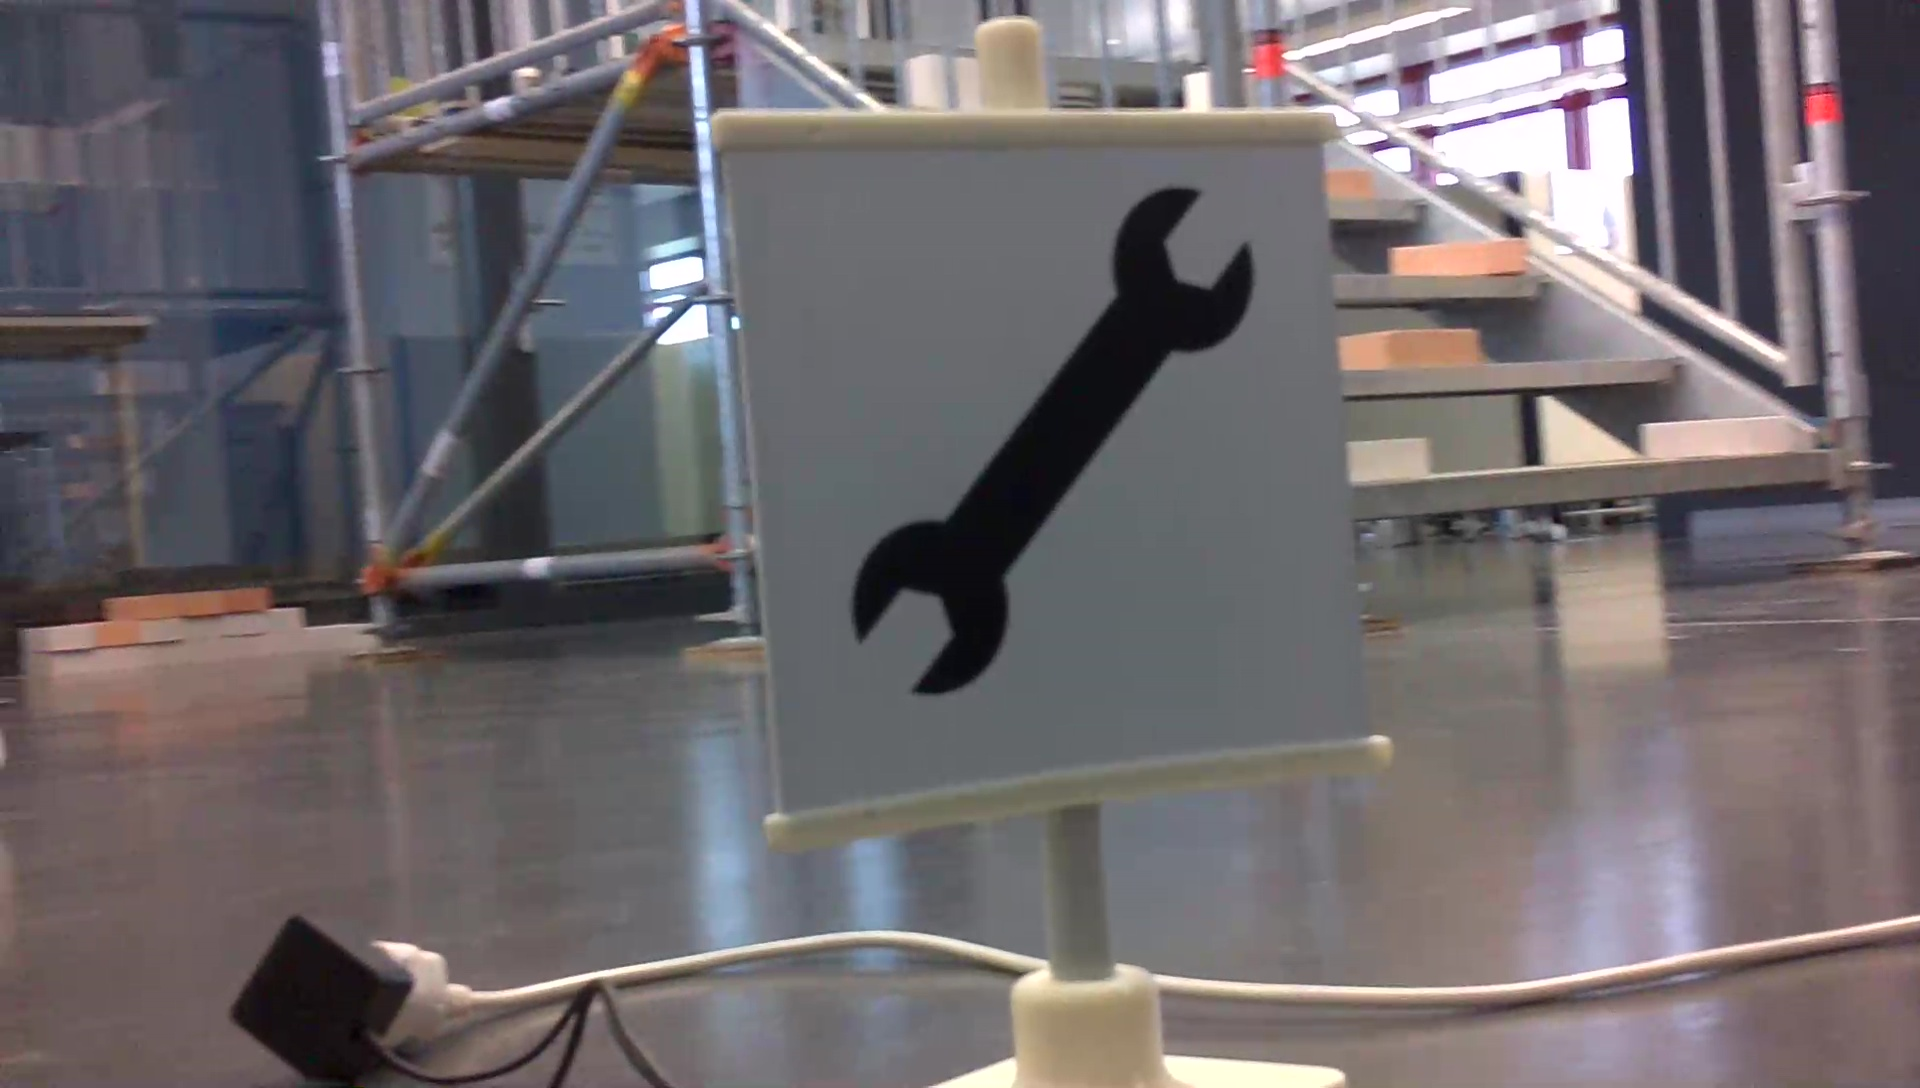brick: (1340, 328, 1480, 368), (1646, 419, 1785, 454), (1390, 243, 1524, 273), (1350, 440, 1423, 479), (1327, 167, 1370, 195)
edge: (1350, 454, 1828, 520), (1342, 357, 1680, 394), (1335, 270, 1548, 302), (1328, 200, 1429, 222)
wrench: (840, 175, 1269, 703)
